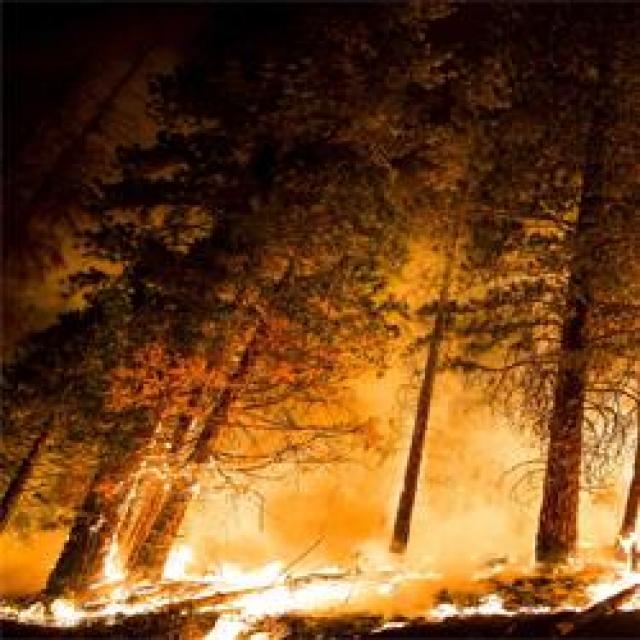fire: (196, 568, 302, 616), (594, 560, 640, 606), (330, 570, 388, 604), (60, 603, 77, 621)
smoke: (278, 435, 375, 524), (448, 433, 529, 535), (0, 516, 65, 578)
